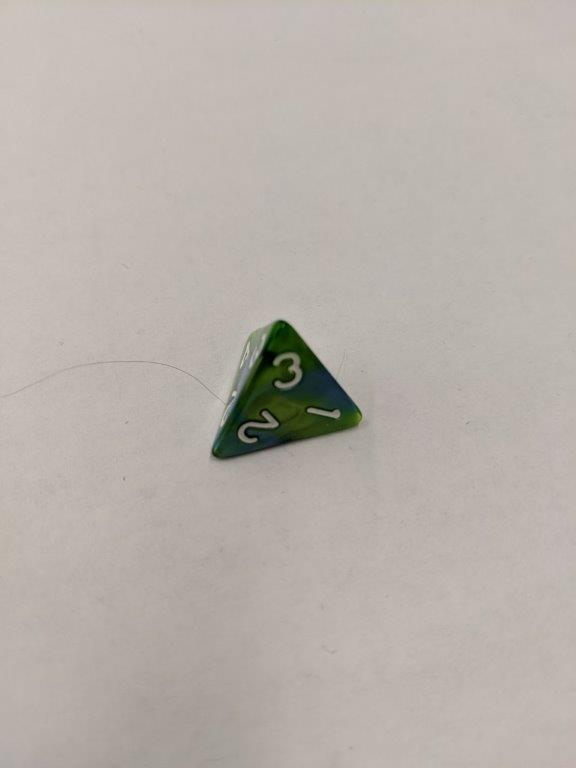d4-3: (209, 314, 365, 463)
